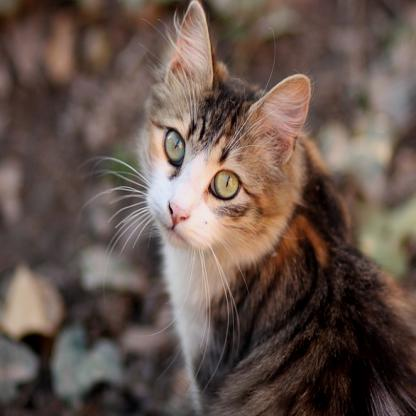cat: (144, 0, 416, 415)
